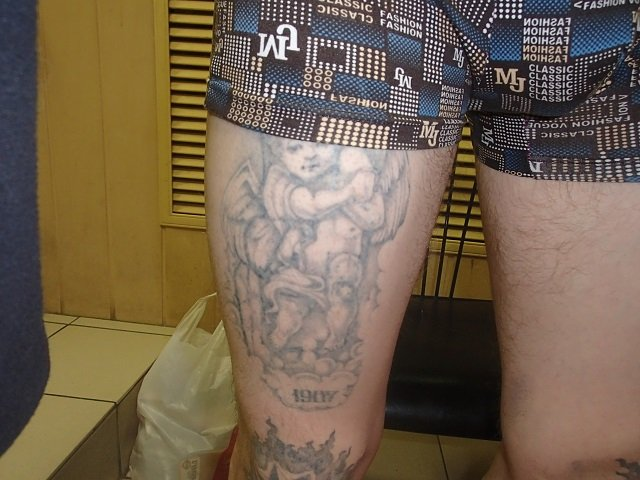tatu1_angel: (238, 100, 389, 422)
